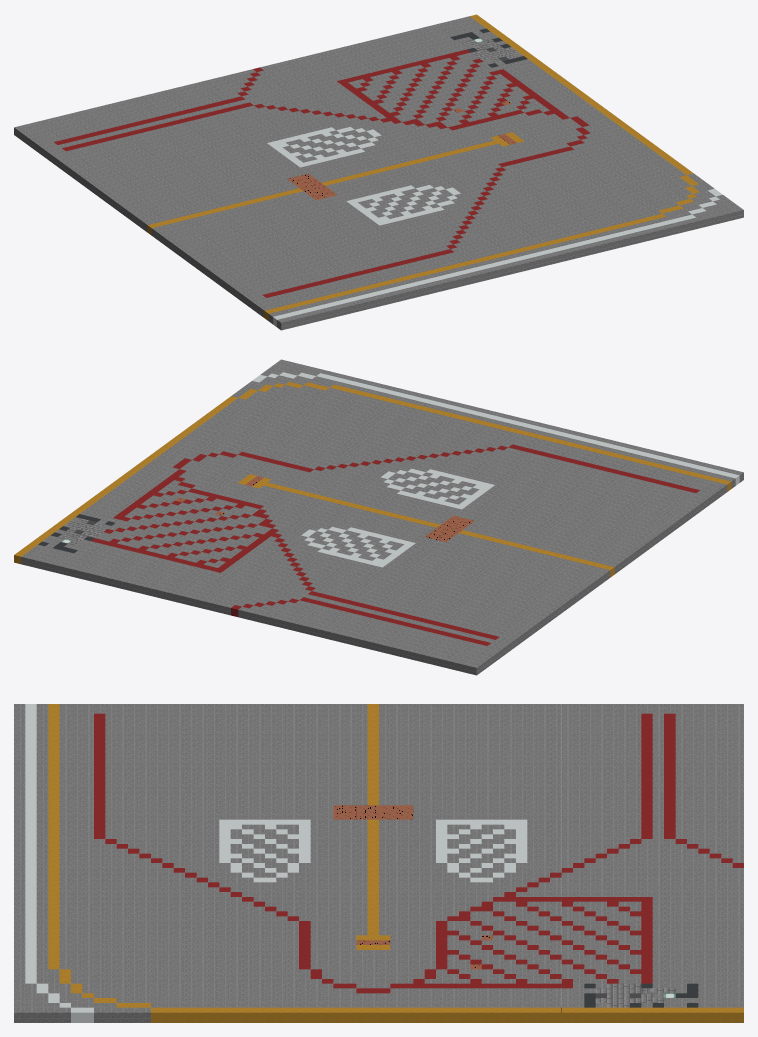
Rendered from floor3.glb.
The picture shows the model from 3 angles, top to bottom: view 1: azimuth 30°, elevation 25°; view 2: azimuth 150°, elevation 25°; view 3: azimuth 270°, elevation 25°; orthographic projection. The views are drawn at different scales.
Visible parts, largest first — view 1: Floor; view 2: Floor; view 3: Floor.
Part boxes in pixels (x1,y1,x2,y2): Floor: (14, 14, 743, 330); Floor: (14, 359, 743, 675); Floor: (14, 704, 743, 1022).
Bounding box in the file's own units: 64 × 1 × 64.
1 material, 1 textured.
